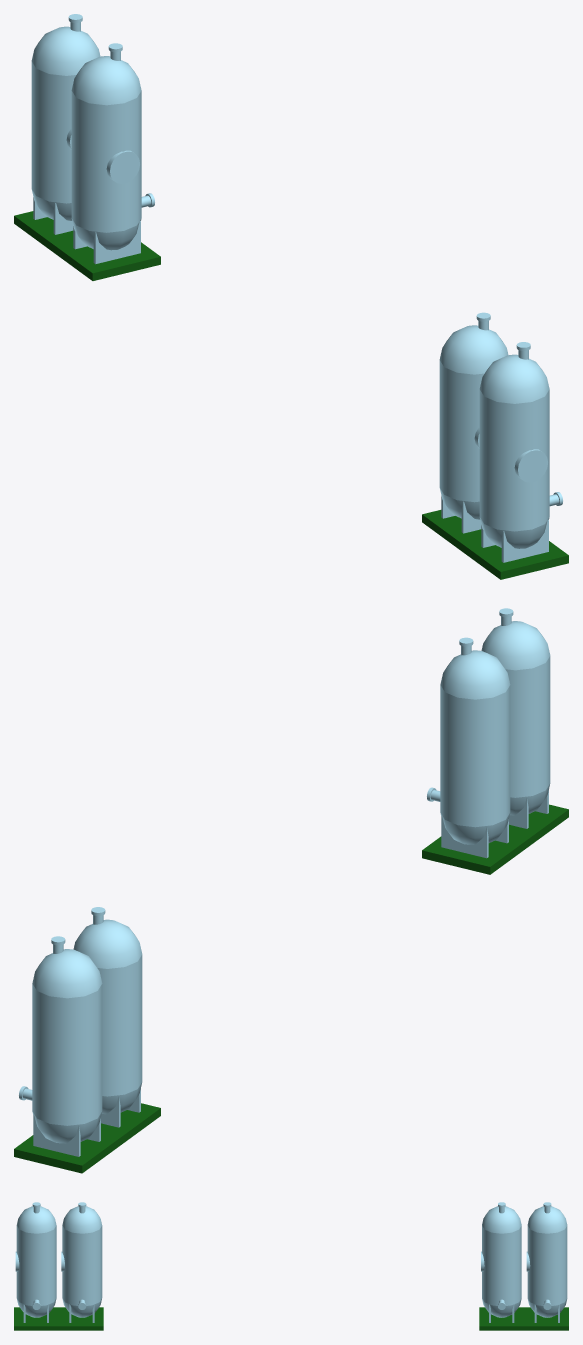
The model's file is water_treatment_set.gltf.
3 views of the same model, one above another, from view 1: azimuth 30°, elevation 25°; view 2: azimuth 150°, elevation 25°; view 3: azimuth 270°, elevation 25° (orthographic). The views are drawn at different scales.
Visible parts, largest first — view 1: OilTank019, OilTank017, OilTank018, OilTank020, Box489, Box494, Cylinder623, Cylinder613, Box493, Box488; view 2: OilTank020, OilTank018, OilTank017, OilTank019, Box494, Box489, Box495, Box490; view 3: OilTank020, OilTank018, OilTank019, OilTank017, Box494, Box489.
Part boxes in pixels (<box>): OilTank019: <box>479,354,549,548</box>; OilTank017: <box>71,56,141,250</box>; OilTank018: <box>31,26,100,220</box>; OilTank020: <box>439,325,508,519</box>; Box489: <box>14,211,160,280</box>; Box494: <box>422,510,568,579</box>; Cylinder623: <box>514,449,547,482</box>; Cylinder613: <box>106,150,139,183</box>; Box493: <box>501,519,548,562</box>; Box488: <box>93,221,140,264</box>; OilTank020: <box>440,650,510,844</box>; OilTank018: <box>32,949,102,1143</box>; OilTank017: <box>73,919,142,1114</box>; OilTank019: <box>481,621,550,815</box>; Box494: <box>422,804,568,874</box>; Box489: <box>14,1103,160,1173</box>; Box495: <box>441,815,488,858</box>; Box490: <box>33,1114,80,1156</box>; OilTank020: <box>62,1206,102,1317</box>; OilTank018: <box>527,1206,567,1317</box>; OilTank019: <box>16,1206,56,1317</box>; OilTank017: <box>482,1206,521,1317</box>; Box494: <box>14,1307,103,1330</box>; Box489: <box>479,1307,568,1330</box>.
Bounding box in the file's own units: 10.16 × 25.88 × 109.
2 materials, 2 textured.
